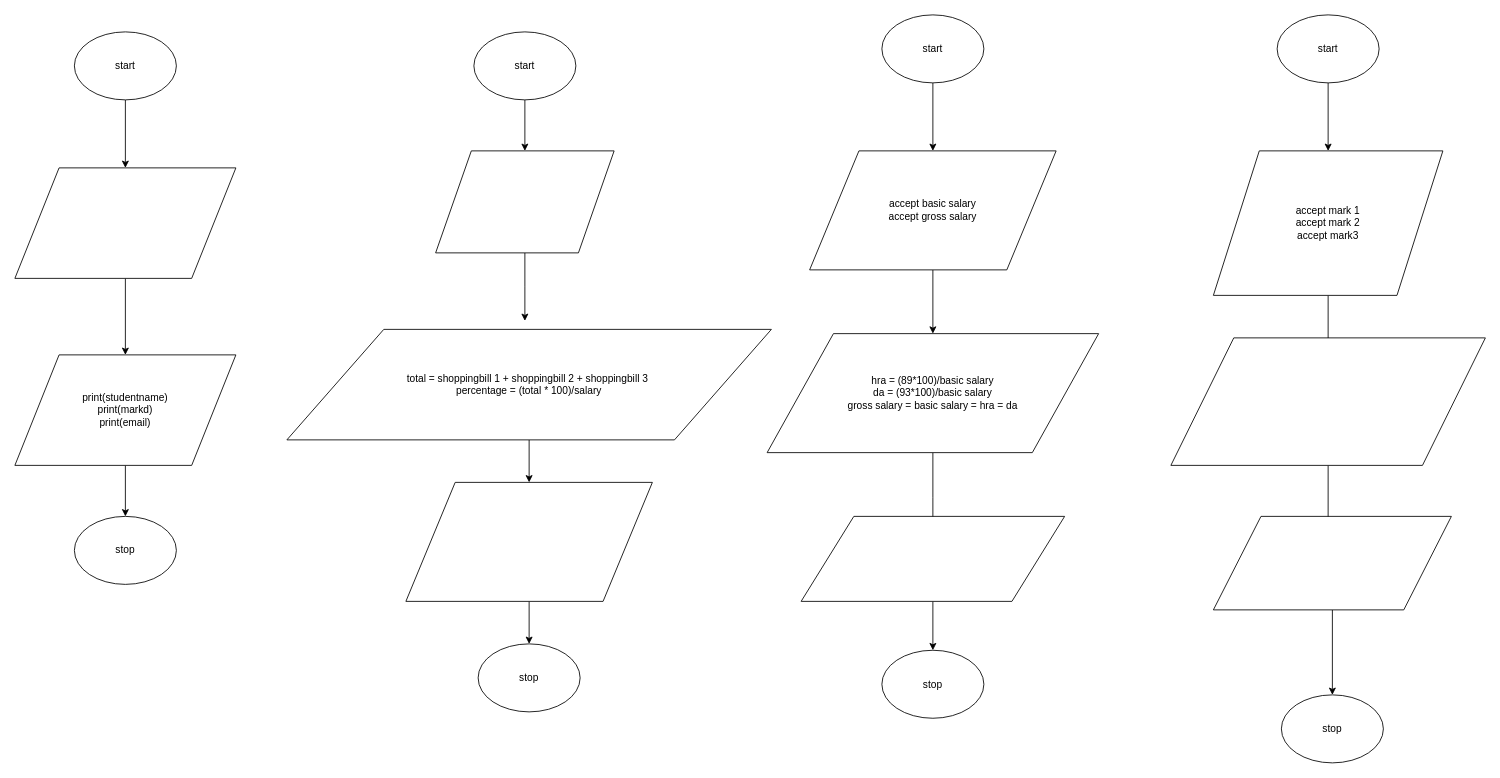
Image size: 1500x778. Some labels were removed from this diagram. The shapes that lost their labels are listed below. From the top down, each one's centre as x and y in pixels, then its label:
At point (524, 201): "accdept salary accept shopingbill 1 accept shoppingbill 2 accept shoppingbill 3".
At point (125, 222): "Accept student name accept marks accept email".
At point (1327, 401): "total = mark 1+mark 2+mark 3 average marks = total/3".
At point (528, 541): "print(total) print(percentage)".
At point (932, 558): "print(hra) print(average marks)".
At point (1332, 563): "print(total) print(average marks)".
